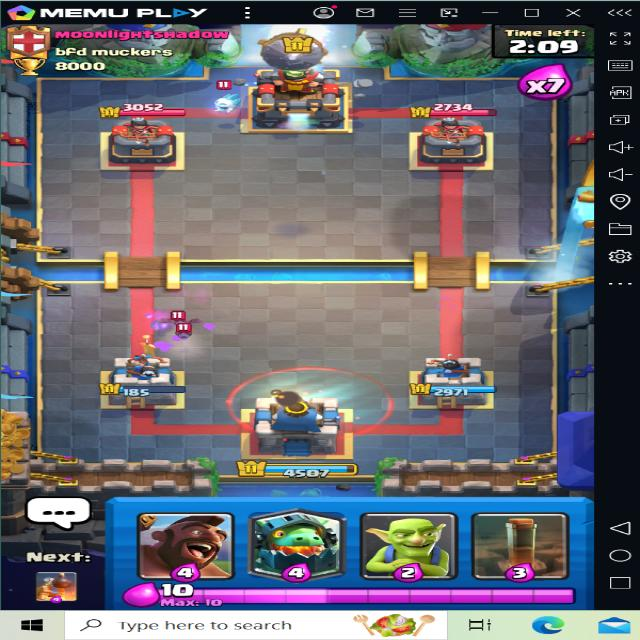Bat: (160, 312, 202, 328), (171, 324, 208, 340)
Clone: (228, 355, 396, 434)
Icespirit: (205, 90, 243, 116)
Rocket: (251, 28, 336, 74)
